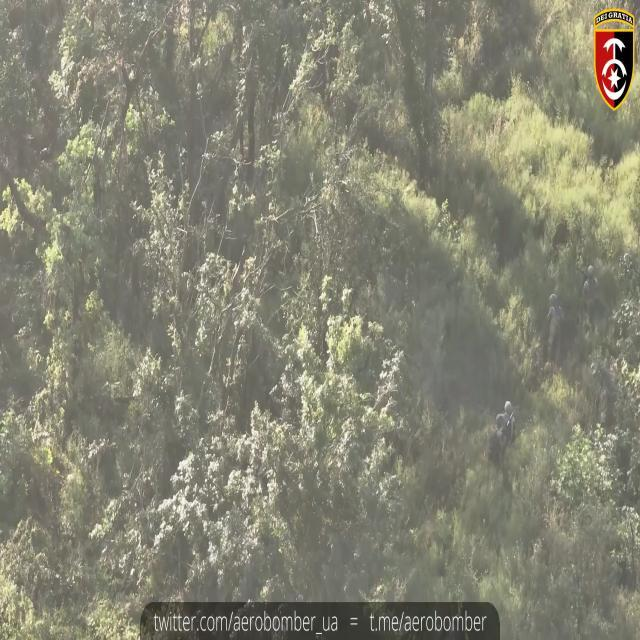MIL_Pax: (489, 400, 515, 467), (548, 293, 562, 364), (582, 264, 599, 309)
